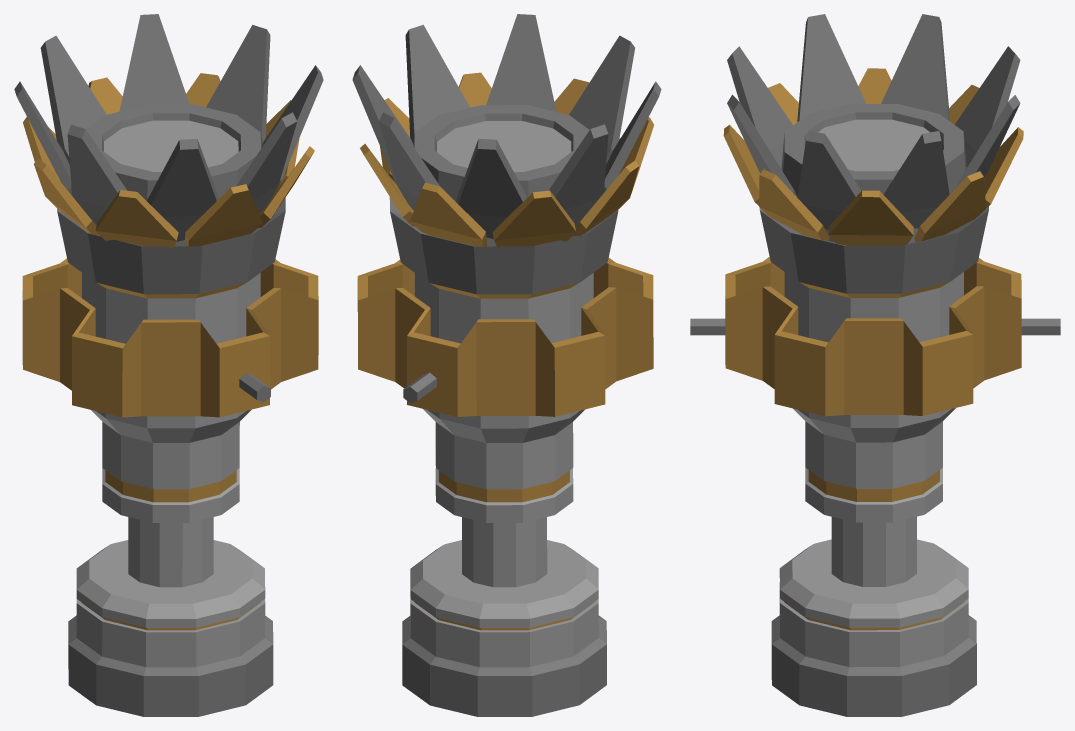
The model's file is Props_Statue.glb.
3 renders of one model, left to right at view 1: azimuth 30°, elevation 25°; view 2: azimuth 150°, elevation 25°; view 3: azimuth 270°, elevation 25°, orthographic.
Visible parts, largest first — view 1: Props_Statue; view 2: Props_Statue; view 3: Props_Statue.
Part boxes in pixels (x1,y1,x2,y2): Props_Statue: (14, 14, 323, 716); Props_Statue: (352, 14, 661, 716); Props_Statue: (690, 14, 1060, 716).
Bounding box in the file's own units: 0.4029 × 0.8873 × 0.4977.
